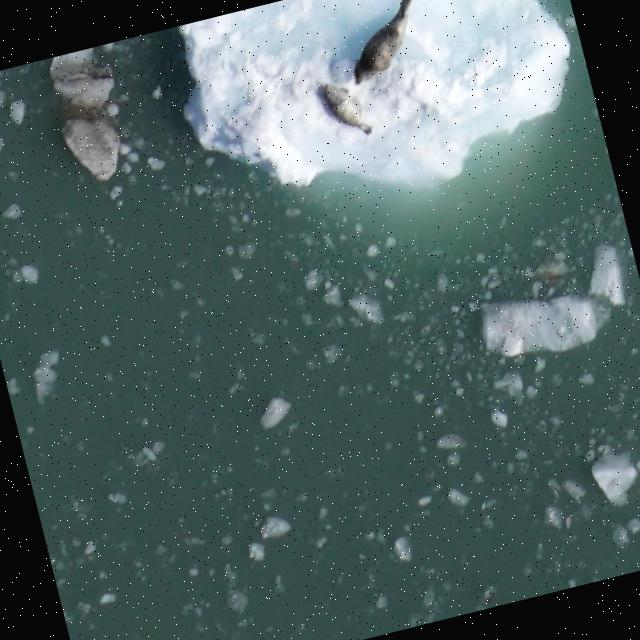seal: (331, 0, 438, 91), (314, 69, 380, 149)
